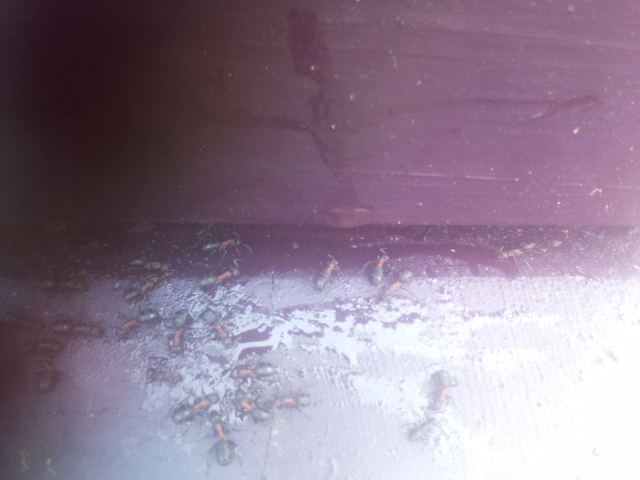ant: (119, 259, 184, 309), (164, 384, 225, 431), (196, 301, 240, 355), (203, 408, 239, 469), (115, 305, 165, 338), (308, 251, 342, 296), (424, 364, 458, 408), (194, 265, 247, 293), (165, 306, 195, 352), (236, 392, 267, 427), (493, 239, 539, 262), (367, 247, 391, 290), (230, 361, 278, 382), (199, 234, 241, 255)
